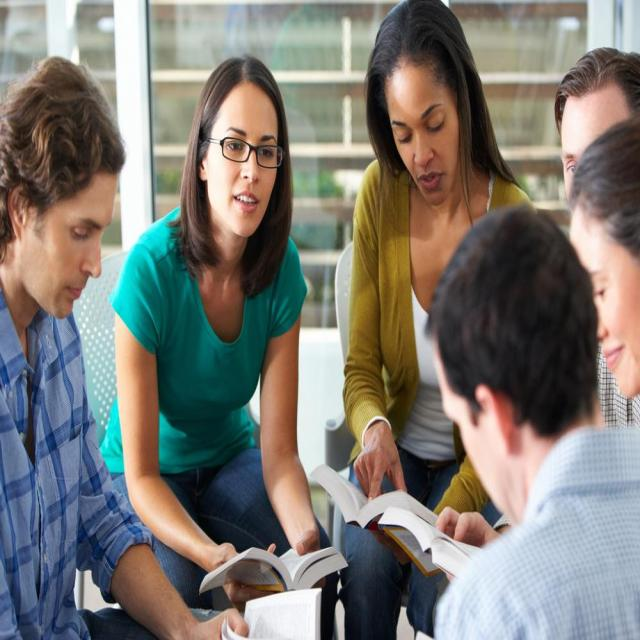person: (3, 49, 183, 639), (411, 168, 628, 639), (158, 10, 316, 639), (331, 3, 521, 511), (557, 130, 639, 401), (546, 49, 639, 240)
